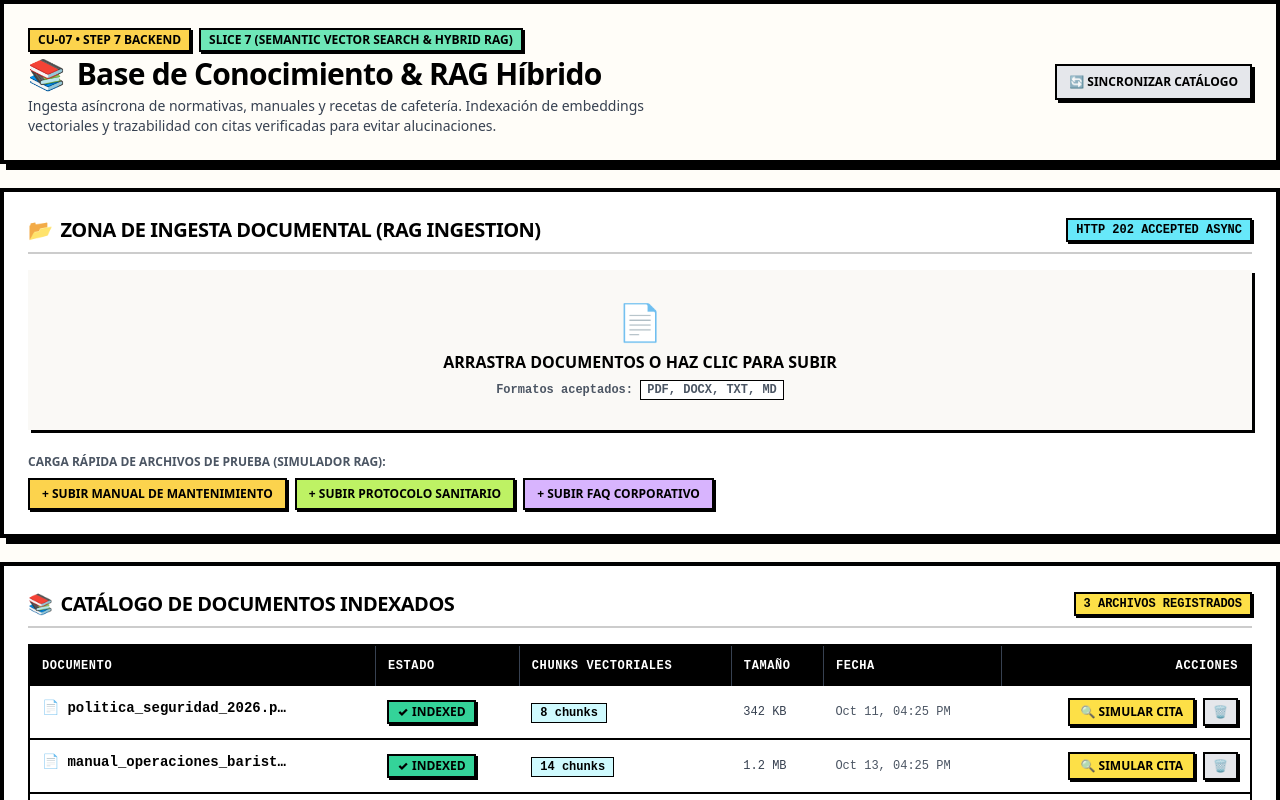
Test: KnowledgePanel Component › opens citation drawer when clicking on simular cita
What coordinates should you click on to do the following:
click the button "🔍 Simular Cita" in the row of "politica_seguridad_2026.pdf"
I would click on:
 (1132, 712)
Its box is [1068, 698, 1195, 726].
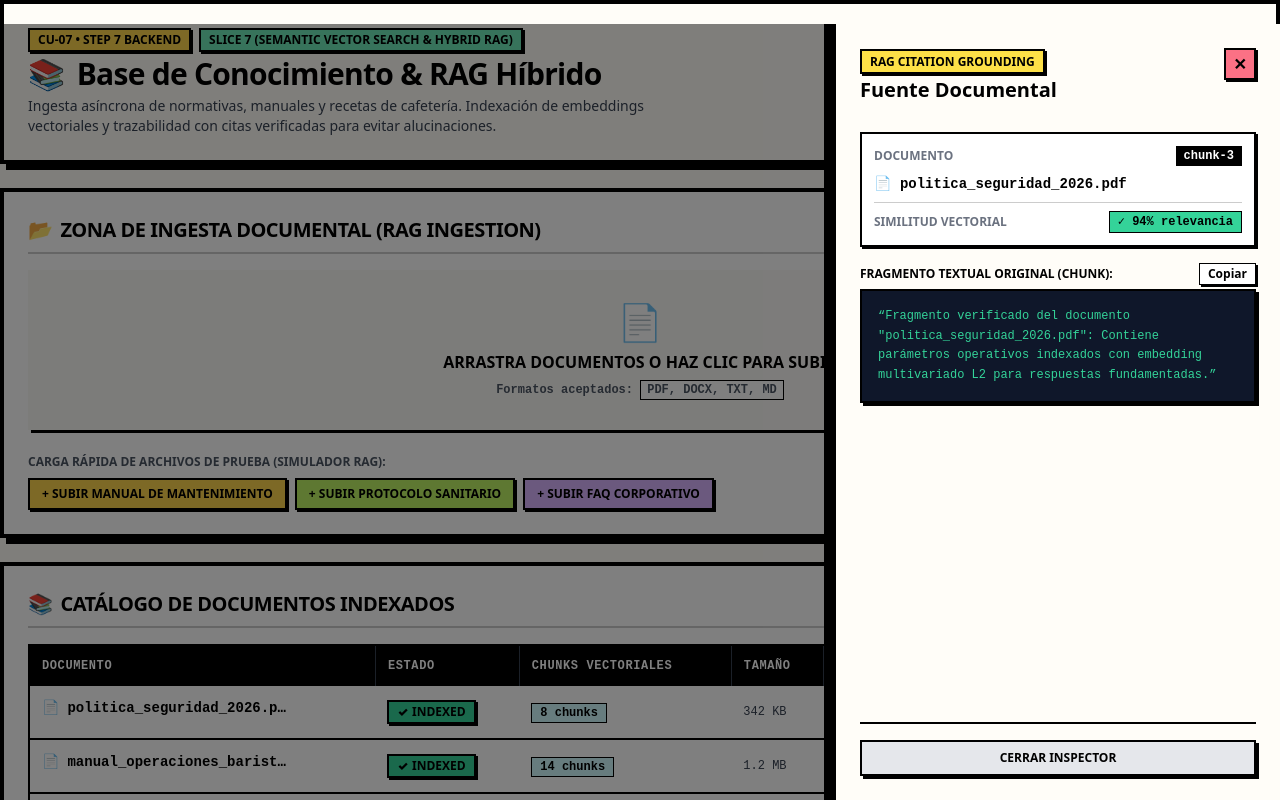
Check: the dialog is shown
Check: the heading "Fuente Documental" is shown, box [860, 76, 1057, 104]
